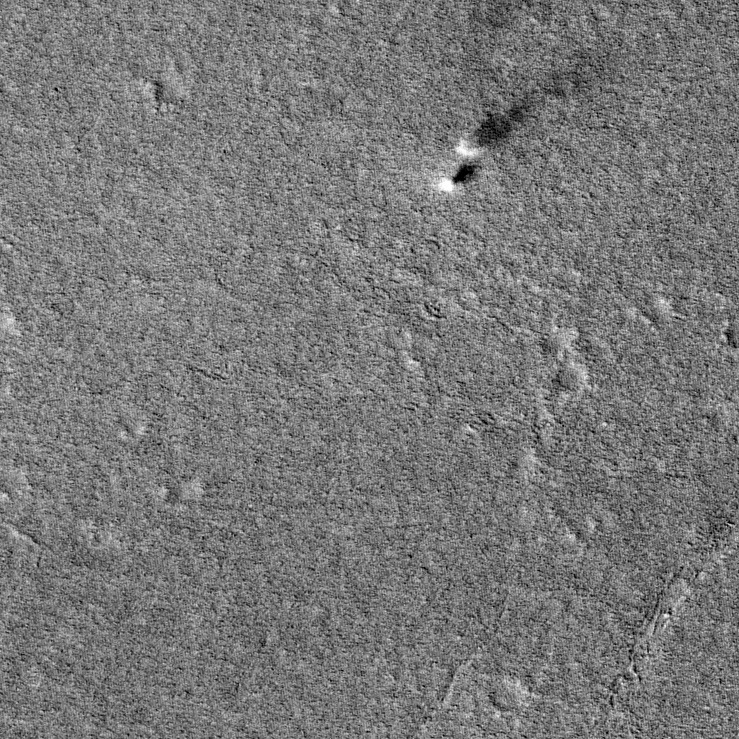dust_devil: (452, 48, 609, 157), (438, 160, 483, 192)
